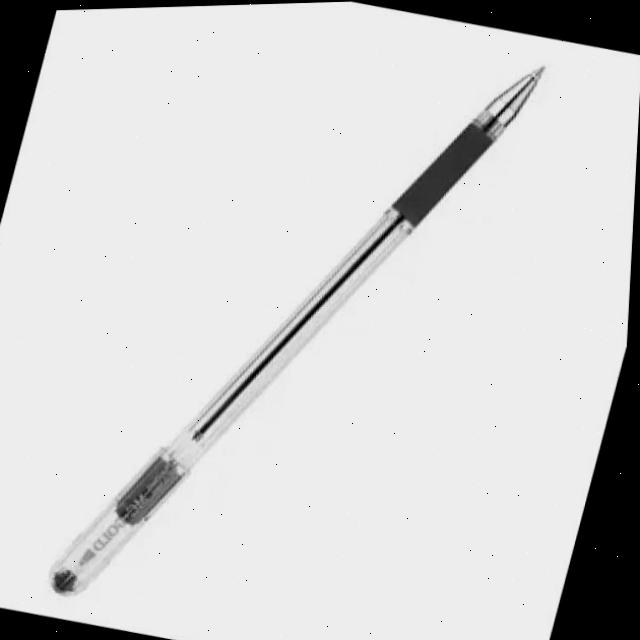pencil: (48, 56, 556, 597)
